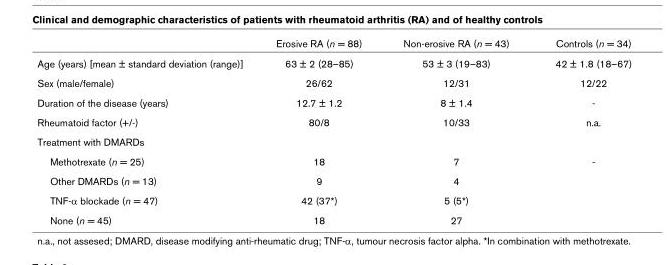table: (36, 36, 631, 225)
table column: (36, 36, 258, 225), (381, 36, 531, 225), (258, 36, 381, 225), (531, 36, 631, 225)
table column header: (36, 36, 631, 52)
table projected row header: (36, 131, 631, 151)
table row: (36, 52, 631, 72), (36, 72, 631, 92), (36, 111, 631, 131), (36, 131, 631, 151), (36, 189, 631, 209), (36, 92, 631, 111), (36, 151, 631, 170), (36, 170, 631, 189), (36, 36, 631, 52), (36, 209, 631, 225)
